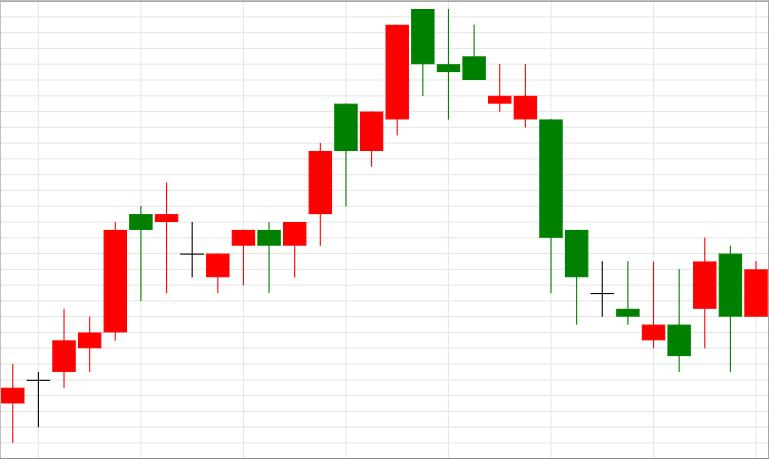inverse_hammer_rise: (411, 9, 691, 372)
